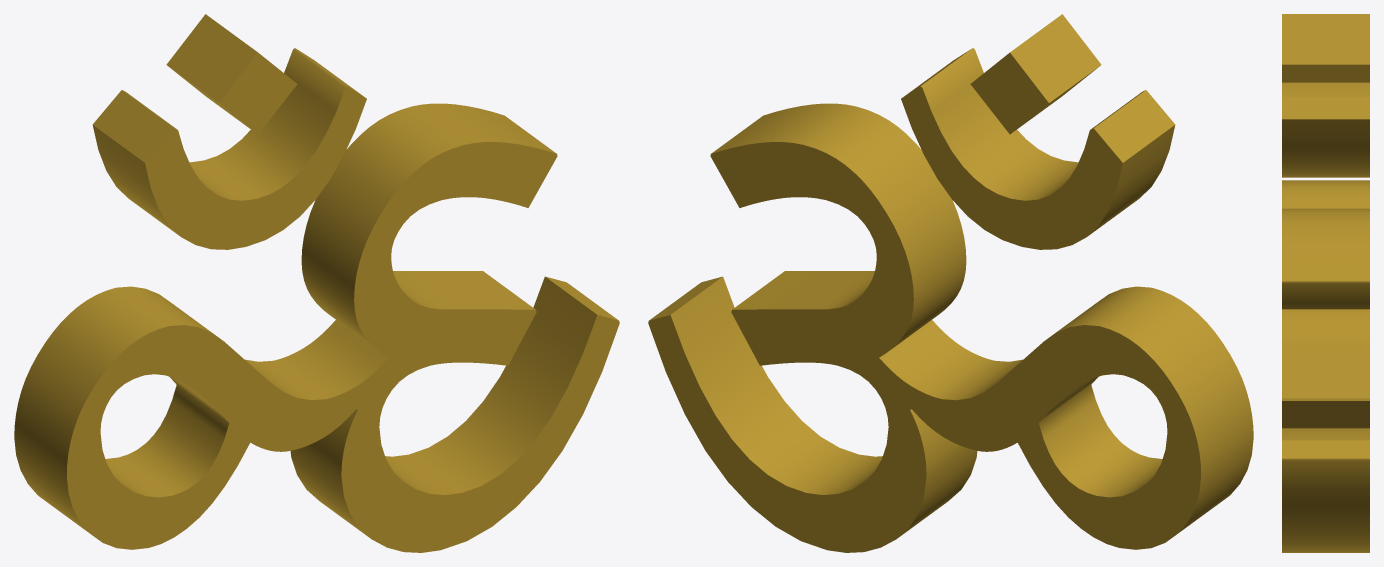
3 renders of one model, left to right at view 1: azimuth 30°, elevation 25°; view 2: azimuth 150°, elevation 25°; view 3: azimuth 270°, elevation 25°, orthographic. The views are drawn at different scales.
Parts seen in each view (by area): view 1: om; view 2: om; view 3: om.
Boxes of the visible parts, x1,y1,x2,y2 form: om: (14,14,619,552); om: (648,14,1253,552); om: (1282,14,1369,552).
Bounding box in the file's own units: 0.6753 × 0.633 × 0.1111.
